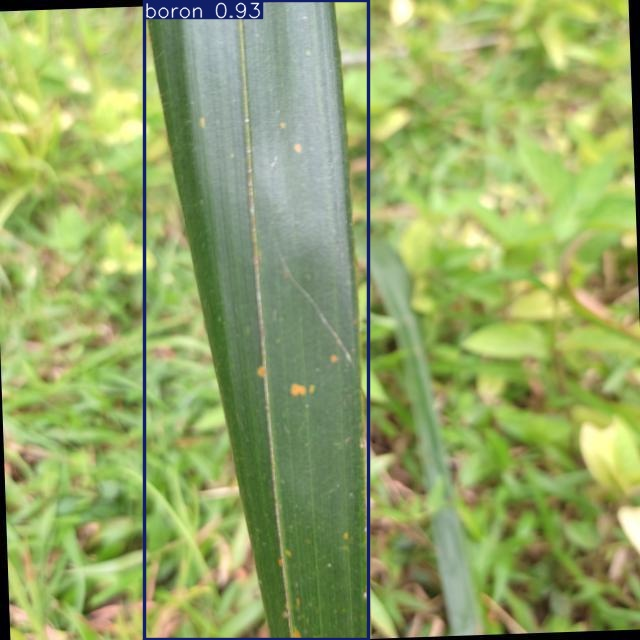nitrogen: (145, 1, 368, 640)
